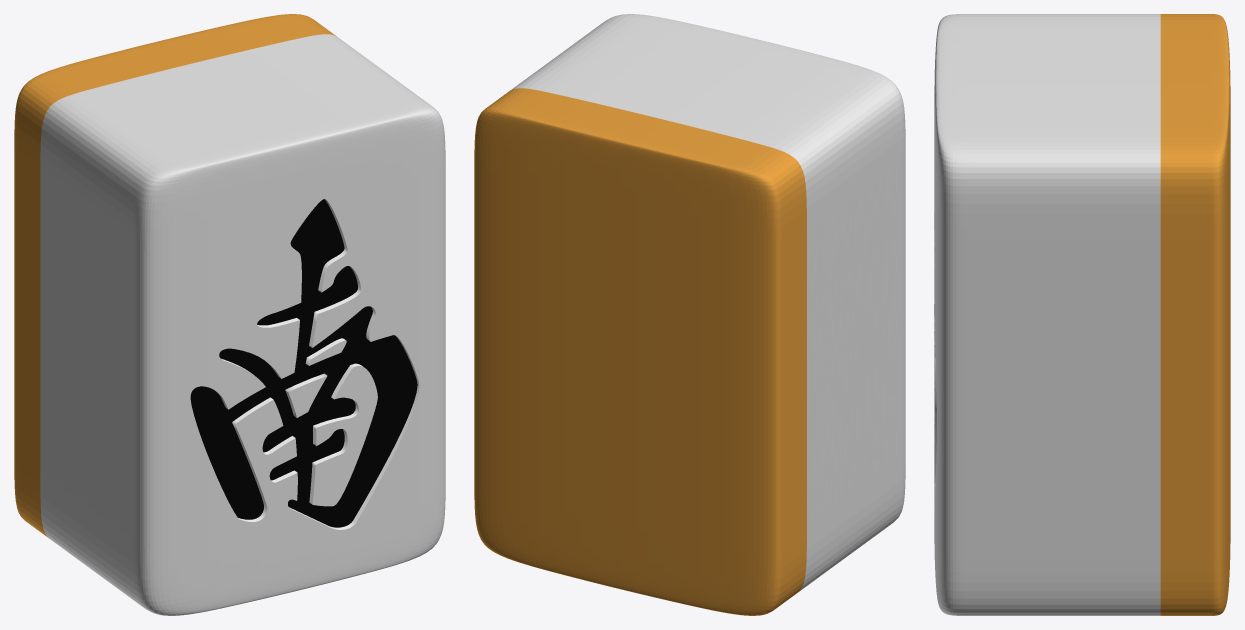
The model's file is Nan.fbx.
The picture shows the model from 3 angles, left to right: view 1: azimuth 30°, elevation 25°; view 2: azimuth 150°, elevation 25°; view 3: azimuth 270°, elevation 25°; orthographic projection. The views are drawn at different scales.
Parts seen in each view (by area): view 1: Nan; view 2: Nan; view 3: Nan.
Boxes of the visible parts, bbox=[...] form: Nan: bbox=[14, 14, 445, 615]; Nan: bbox=[474, 14, 905, 615]; Nan: bbox=[934, 14, 1230, 615].
Bounding box in the file's own units: 2 × 2.8 × 1.59.
